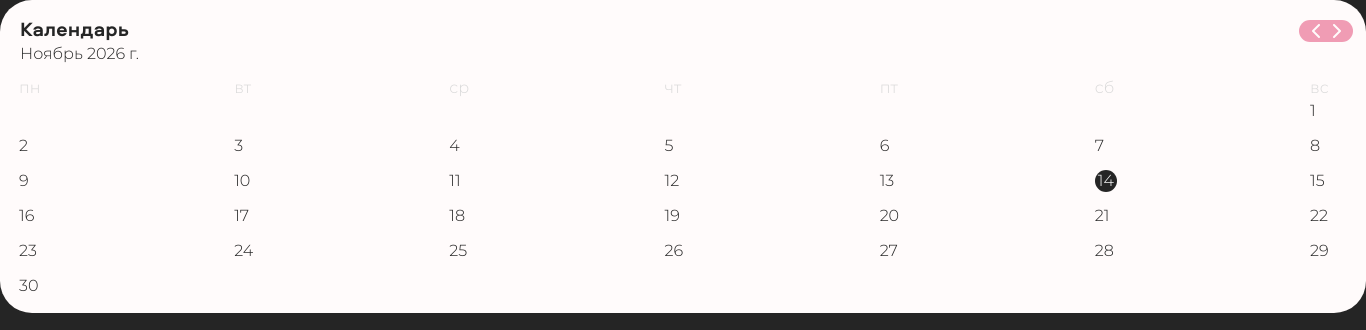
MiniCalendar › листает месяцы и подписывает не текущий месяц
The image size is (1366, 330).
Click the button named "Следующий месяц" at x=1337, y=31, box left=1333, top=24, right=1341, bottom=38
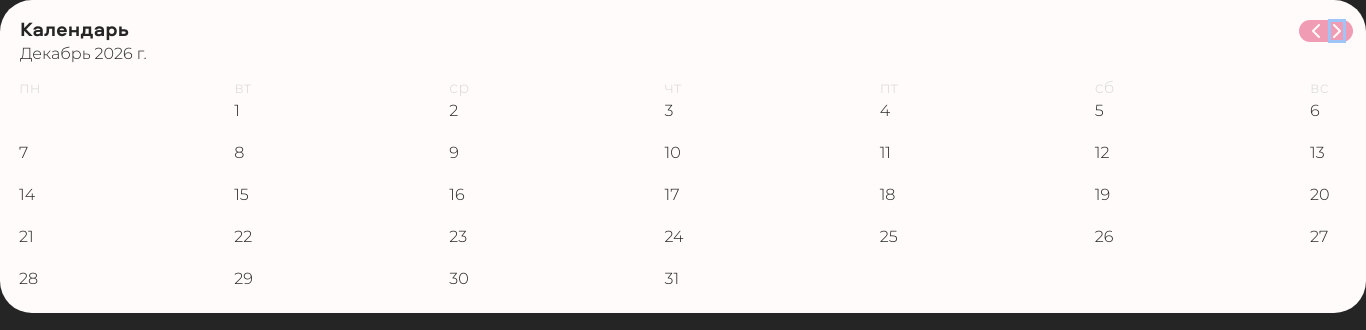
Check: the text "Декабрь 2026 г." is shown, box left=20, top=44, right=147, bottom=63
Click the button named "Предыдущий месяц" at x=1316, y=31, box left=1312, top=24, right=1320, bottom=38
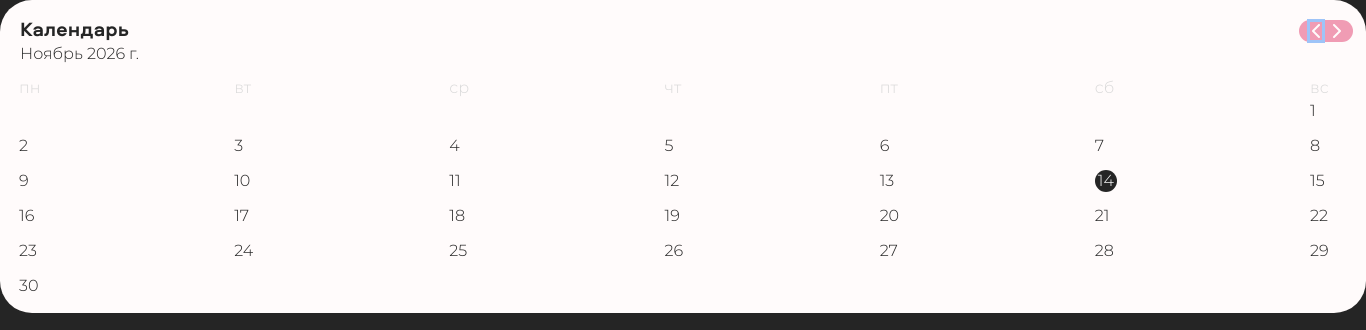
Check: the text "Ноябрь 2026 г." is shown, box left=20, top=44, right=139, bottom=63
